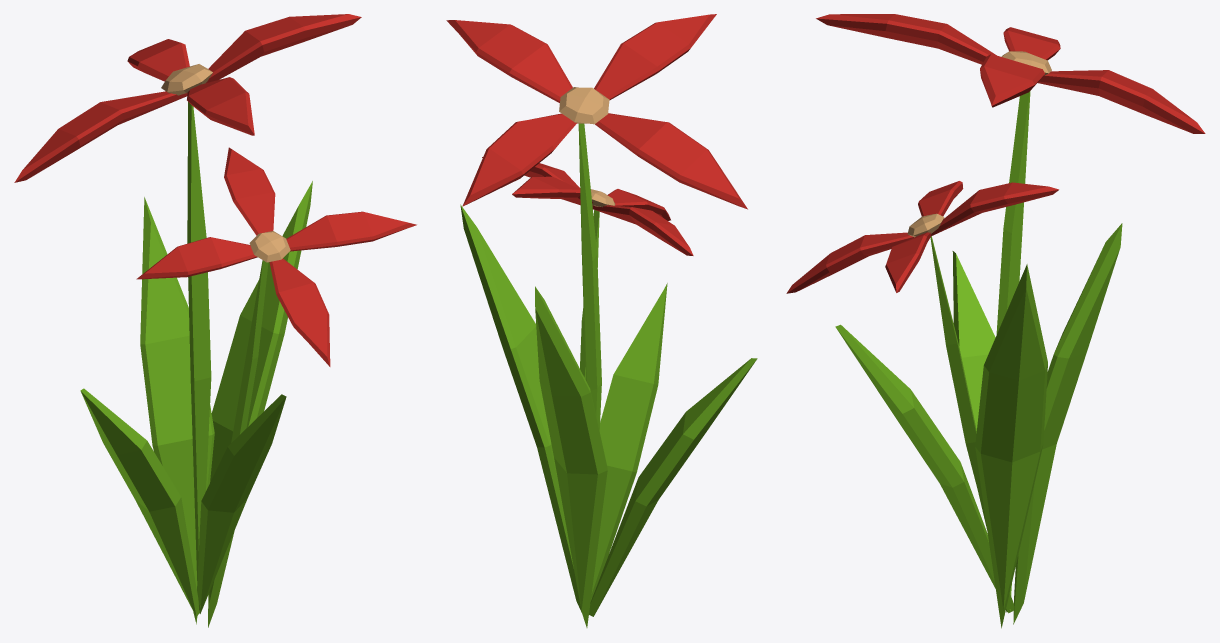
The model's file is SM_Grass_4.fbx.
The picture shows the model from 3 angles, left to right: view 1: azimuth 30°, elevation 25°; view 2: azimuth 150°, elevation 25°; view 3: azimuth 270°, elevation 25°; orthographic projection. The views are drawn at different scales.
Parts seen in each view (by area): view 1: SM_Grass_4_LOD0; view 2: SM_Grass_4_LOD0; view 3: SM_Grass_4_LOD0.
Part boxes in pixels (x1,y1,x2,y2): SM_Grass_4_LOD0: (14,14,416,627); SM_Grass_4_LOD0: (446,14,757,627); SM_Grass_4_LOD0: (786,14,1205,628).
Bounding box in the file's own units: 73.91 × 76.88 × 123.
1 material, 1 textured.
